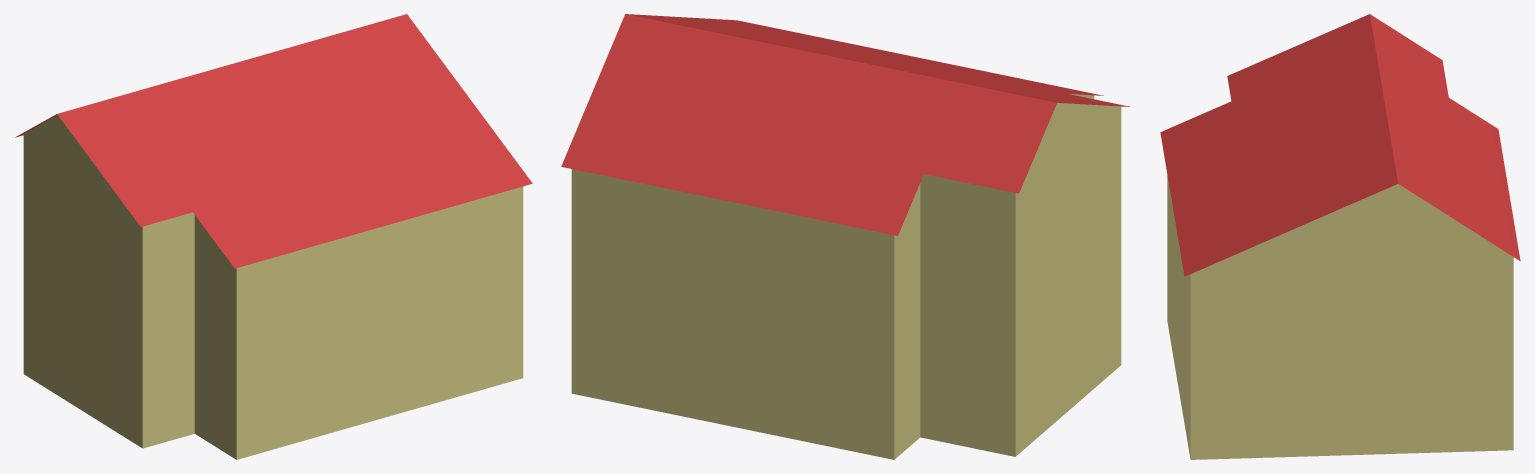
The picture shows the model from 3 angles, left to right: view 1: azimuth 30°, elevation 25°; view 2: azimuth 150°, elevation 25°; view 3: azimuth 270°, elevation 25°; orthographic projection. The views are drawn at different scales.
Bounding box in the file's own units: 16.1 × 13.75 × 11.49.
